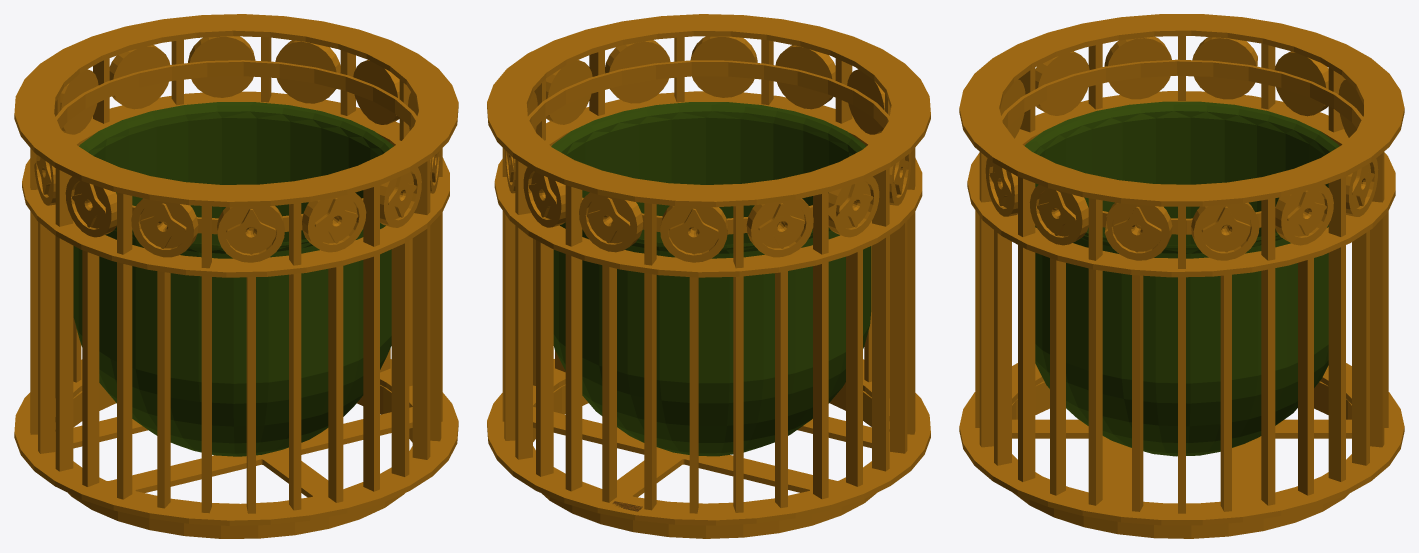
3 views of the same model, side by side, from view 1: azimuth 30°, elevation 25°; view 2: azimuth 150°, elevation 25°; view 3: azimuth 270°, elevation 25° (orthographic).
Parts seen in each view (by area): view 1: mesh47.001_mesh47-geometry, mesh15.001_mesh15-geometry, mesh32.001_mesh32-geometry, mesh27.001_mesh27-geometry, mesh20.001_mesh20-geometry, mesh3.008_mesh3-geometry, mesh3.011_mesh3-geometry, mesh3.013_mesh3-geometry, mesh22.001_mesh22-geometry, mesh3.009_mesh3-geometry, mesh1.012_mesh1-geometry, mesh1.007_mesh1-geometry (+25 smaller); view 2: mesh47.001_mesh47-geometry, mesh15.001_mesh15-geometry, mesh32.001_mesh32-geometry, mesh27.001_mesh27-geometry, mesh20.001_mesh20-geometry, mesh3.001_mesh3-geometry, mesh3.008_mesh3-geometry, mesh3.007_mesh3-geometry, mesh3.002_mesh3-geometry, mesh22.001_mesh22-geometry, mesh1.008_mesh1-geometry, mesh1.007_mesh1-geometry (+25 smaller); view 3: mesh47.001_mesh47-geometry, mesh15.001_mesh15-geometry, mesh32.001_mesh32-geometry, mesh27.001_mesh27-geometry, mesh20.001_mesh20-geometry, mesh3.002_mesh3-geometry, mesh3.011_mesh3-geometry, mesh22.001_mesh22-geometry, mesh3.010_mesh3-geometry, mesh3.004_mesh3-geometry, mesh1.008_mesh1-geometry, mesh1.012_mesh1-geometry (+25 smaller).
Part boxes in pixels (bbox=[...]): mesh47.001_mesh47-geometry: bbox=[73, 102, 393, 456]; mesh15.001_mesh15-geometry: bbox=[14, 14, 458, 207]; mesh32.001_mesh32-geometry: bbox=[14, 359, 458, 525]; mesh27.001_mesh27-geometry: bbox=[22, 91, 449, 277]; mesh20.001_mesh20-geometry: bbox=[56, 60, 416, 234]; mesh3.008_mesh3-geometry: bbox=[55, 168, 73, 471]; mesh3.011_mesh3-geometry: bbox=[412, 159, 430, 459]; mesh3.013_mesh3-geometry: bbox=[363, 185, 379, 491]; mesh22.001_mesh22-geometry: bbox=[55, 383, 412, 538]; mesh3.009_mesh3-geometry: bbox=[117, 192, 132, 499]; mesh1.012_mesh1-geometry: bbox=[391, 241, 409, 476]; mesh1.007_mesh1-geometry: bbox=[82, 250, 99, 486]; mesh47.001_mesh47-geometry: bbox=[551, 102, 871, 456]; mesh15.001_mesh15-geometry: bbox=[487, 14, 930, 207]; mesh32.001_mesh32-geometry: bbox=[487, 359, 930, 525]; mesh27.001_mesh27-geometry: bbox=[494, 91, 922, 277]; mesh20.001_mesh20-geometry: bbox=[528, 60, 889, 234]; mesh3.001_mesh3-geometry: bbox=[565, 185, 582, 491]; mesh3.008_mesh3-geometry: bbox=[872, 168, 889, 471]; mesh3.007_mesh3-geometry: bbox=[813, 192, 828, 499]; mesh3.002_mesh3-geometry: bbox=[515, 159, 532, 459]; mesh22.001_mesh22-geometry: bbox=[533, 382, 889, 538]; mesh1.008_mesh1-geometry: bbox=[536, 240, 553, 476]; mesh1.007_mesh1-geometry: bbox=[890, 221, 907, 453]; mesh47.001_mesh47-geometry: bbox=[1024, 101, 1339, 456]; mesh15.001_mesh15-geometry: bbox=[959, 14, 1404, 206]; mesh32.001_mesh32-geometry: bbox=[959, 363, 1404, 525]; mesh27.001_mesh27-geometry: bbox=[967, 91, 1395, 277]; mesh20.001_mesh20-geometry: bbox=[1001, 59, 1362, 234]; mesh3.002_mesh3-geometry: bbox=[1328, 176, 1345, 481]; mesh3.011_mesh3-geometry: bbox=[1018, 176, 1035, 481]; mesh22.001_mesh22-geometry: bbox=[1012, 381, 1351, 538]; mesh3.010_mesh3-geometry: bbox=[1261, 198, 1275, 505]; mesh3.004_mesh3-geometry: bbox=[1088, 198, 1102, 505]; mesh1.008_mesh1-geometry: bbox=[1352, 230, 1369, 465]; mesh1.012_mesh1-geometry: bbox=[994, 230, 1011, 465].
Size of the model in its own units: 0.5997 by 0.527 by 0.6022.
